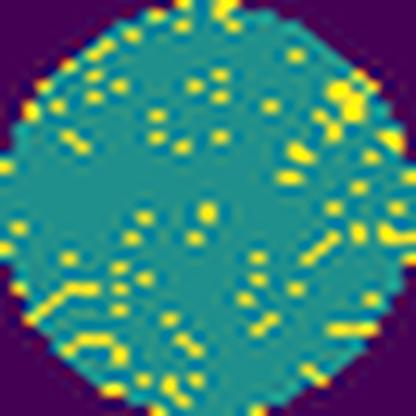Loc: (308, 77, 373, 144)
